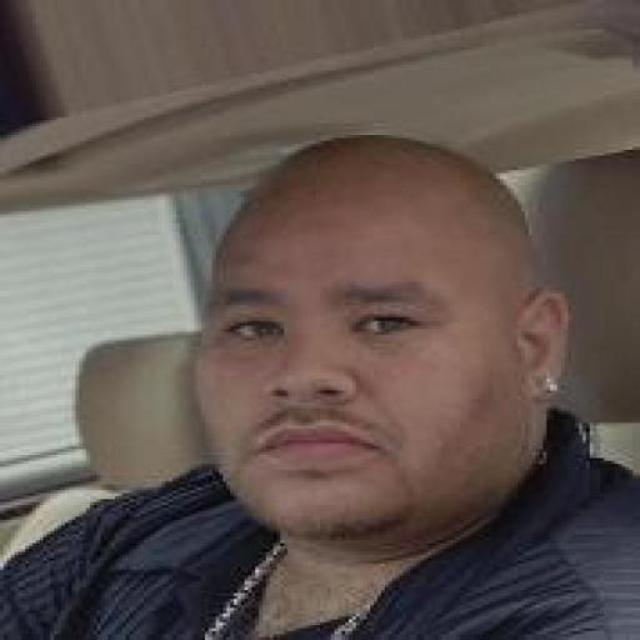bareface: (178, 185, 558, 530)
